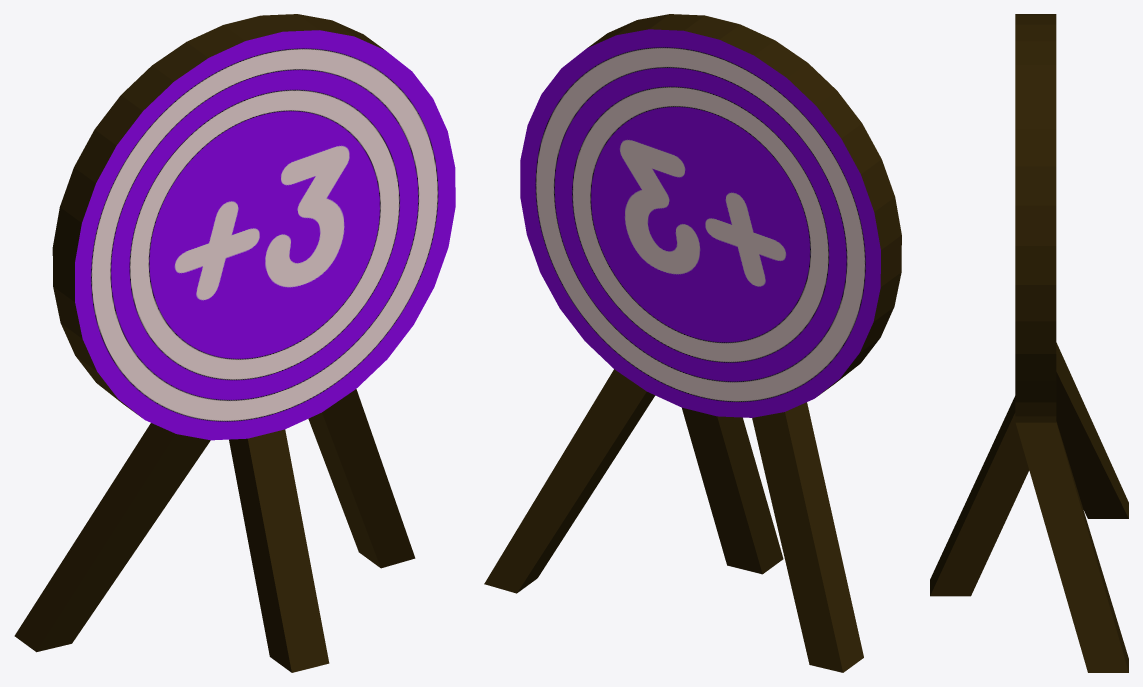
File: renk3.fbx
3 views of the same model, side by side, from view 1: azimuth 30°, elevation 25°; view 2: azimuth 150°, elevation 25°; view 3: azimuth 270°, elevation 25° (orthographic). The views are drawn at different scales.
Visible parts, largest first — view 1: Cylinder; view 2: Cylinder; view 3: Cylinder.
Boxes of the visible parts, bbox=[...] form: Cylinder: bbox=[14, 14, 455, 672]; Cylinder: bbox=[484, 14, 901, 672]; Cylinder: bbox=[930, 14, 1128, 672].
Bounding box in the file's own units: 199 × 299 × 97.2.
2 materials, 1 textured.
